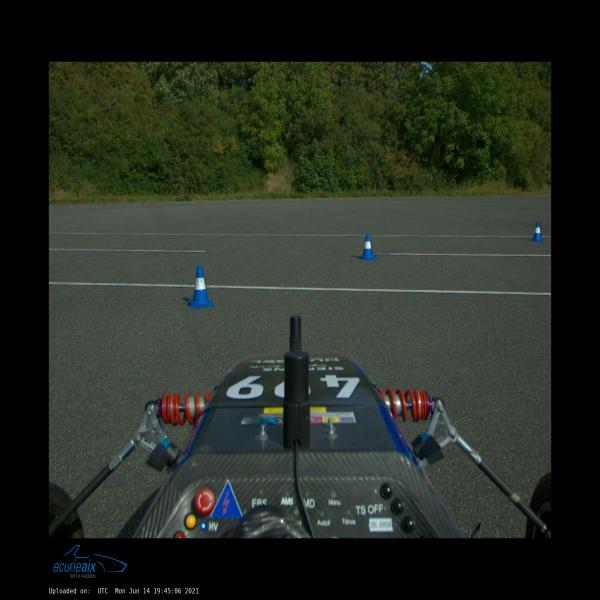blue_cone: (188, 266, 214, 308), (358, 234, 377, 260), (531, 222, 544, 241)
